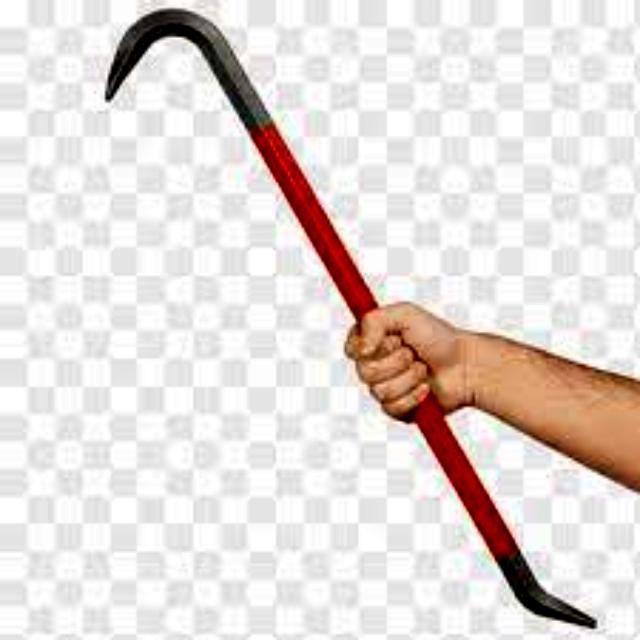crow bar: (93, 4, 602, 632)
